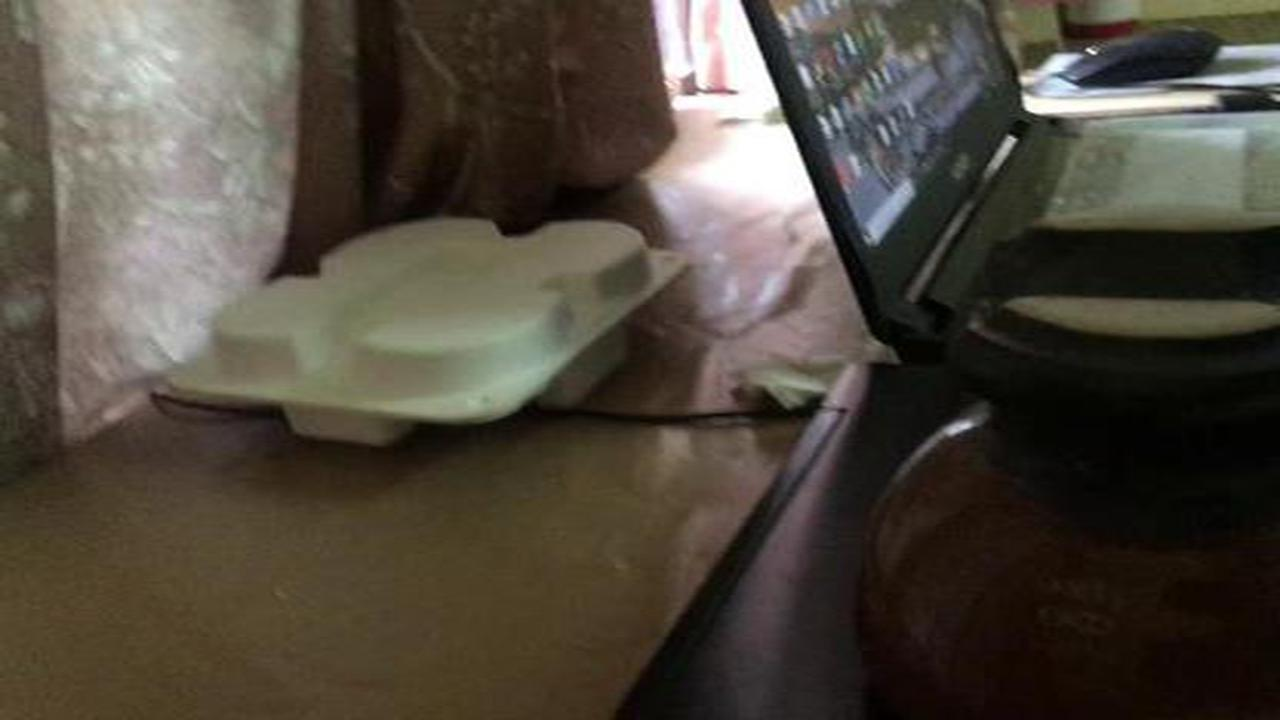insulator_pin: (841, 200, 1277, 719)
